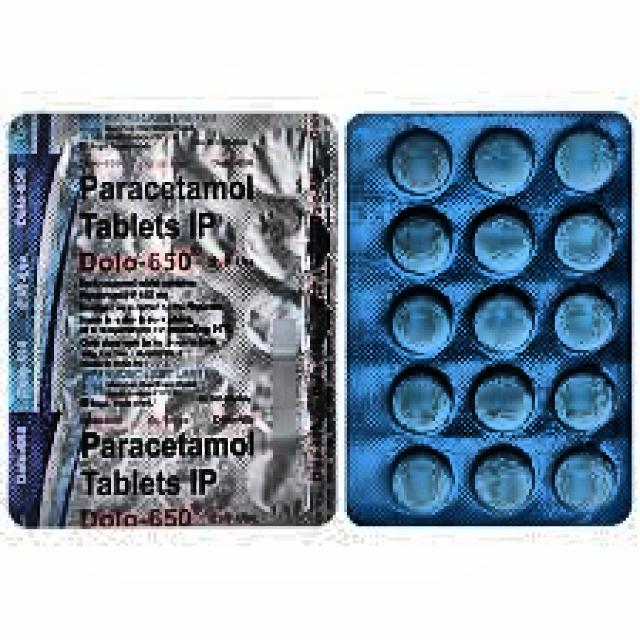Paracetamol: (8, 115, 336, 522)
